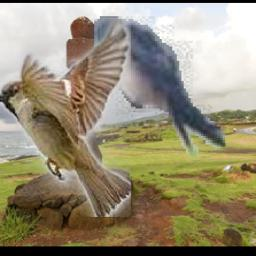Sparrow: (0, 19, 131, 218)
Swallow: (95, 16, 227, 159)
